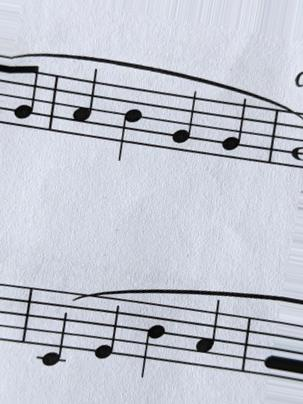note: (34, 290, 73, 369), (111, 79, 146, 165), (136, 296, 168, 384), (218, 94, 251, 169), (69, 64, 100, 142), (192, 296, 222, 376), (91, 293, 122, 366), (171, 89, 200, 158)
